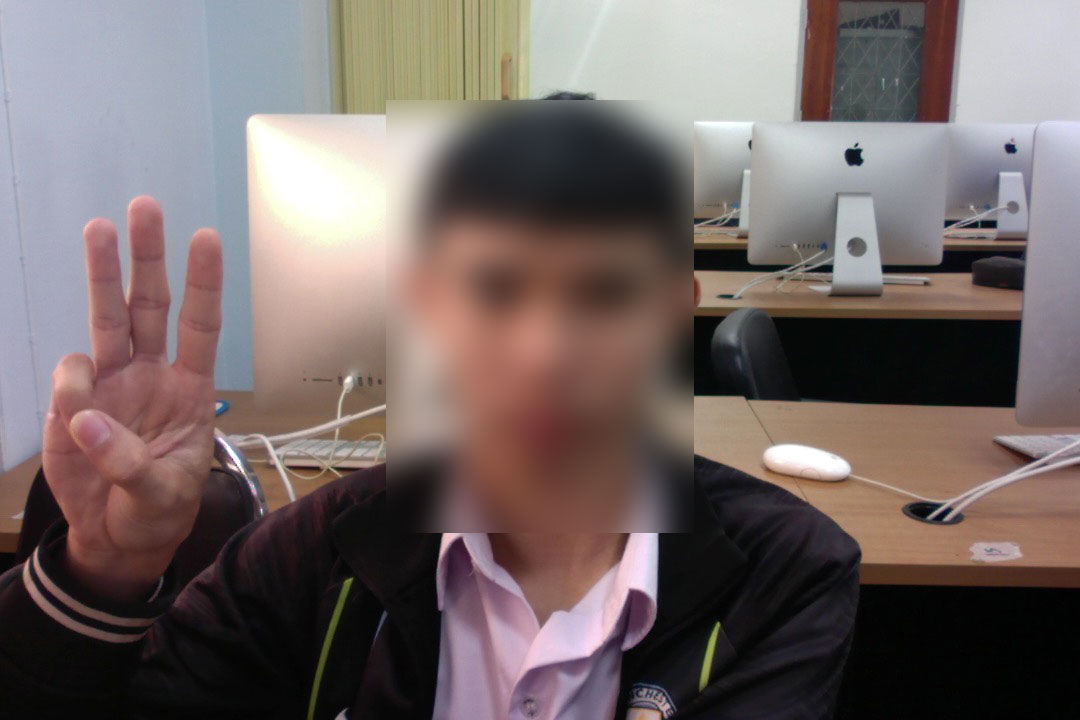wor: (20, 183, 241, 597)
